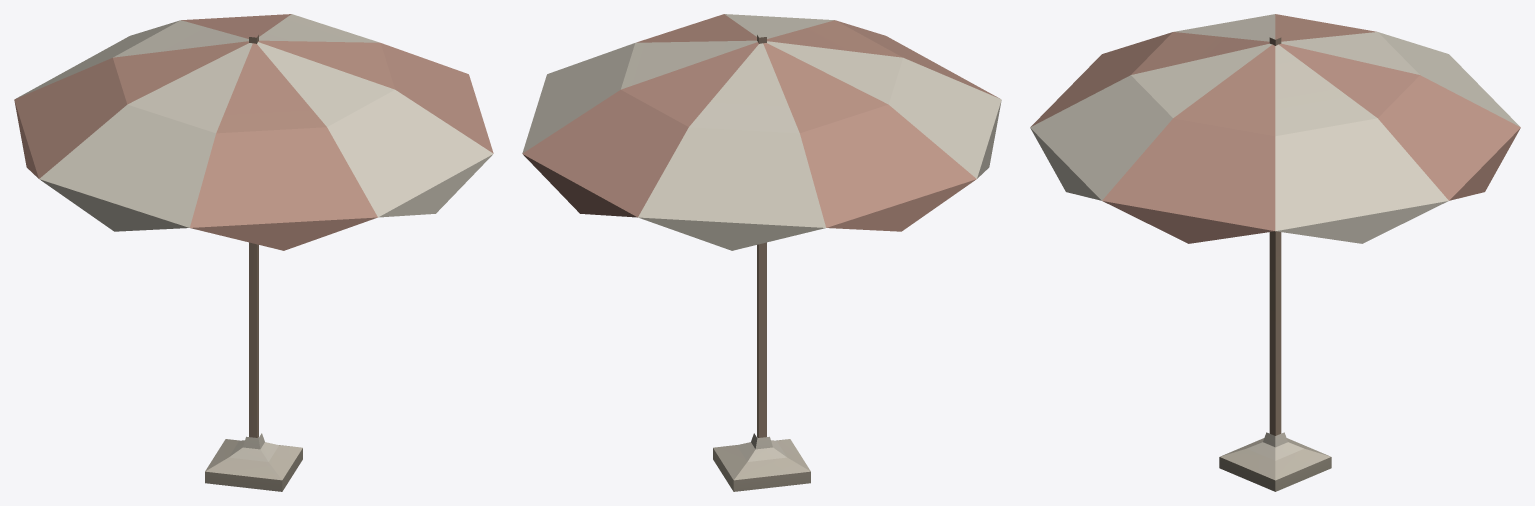
The model's file is parasol.lod2.glb.
The picture shows the model from 3 angles, left to right: view 1: azimuth 30°, elevation 25°; view 2: azimuth 150°, elevation 25°; view 3: azimuth 270°, elevation 25°; orthographic projection.
Bounding box in the file's own units: 2.72 × 2.63 × 2.72.
